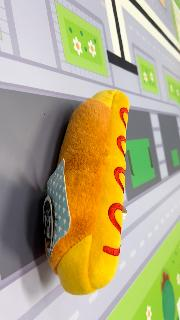hotdog: (42, 88, 130, 296)
